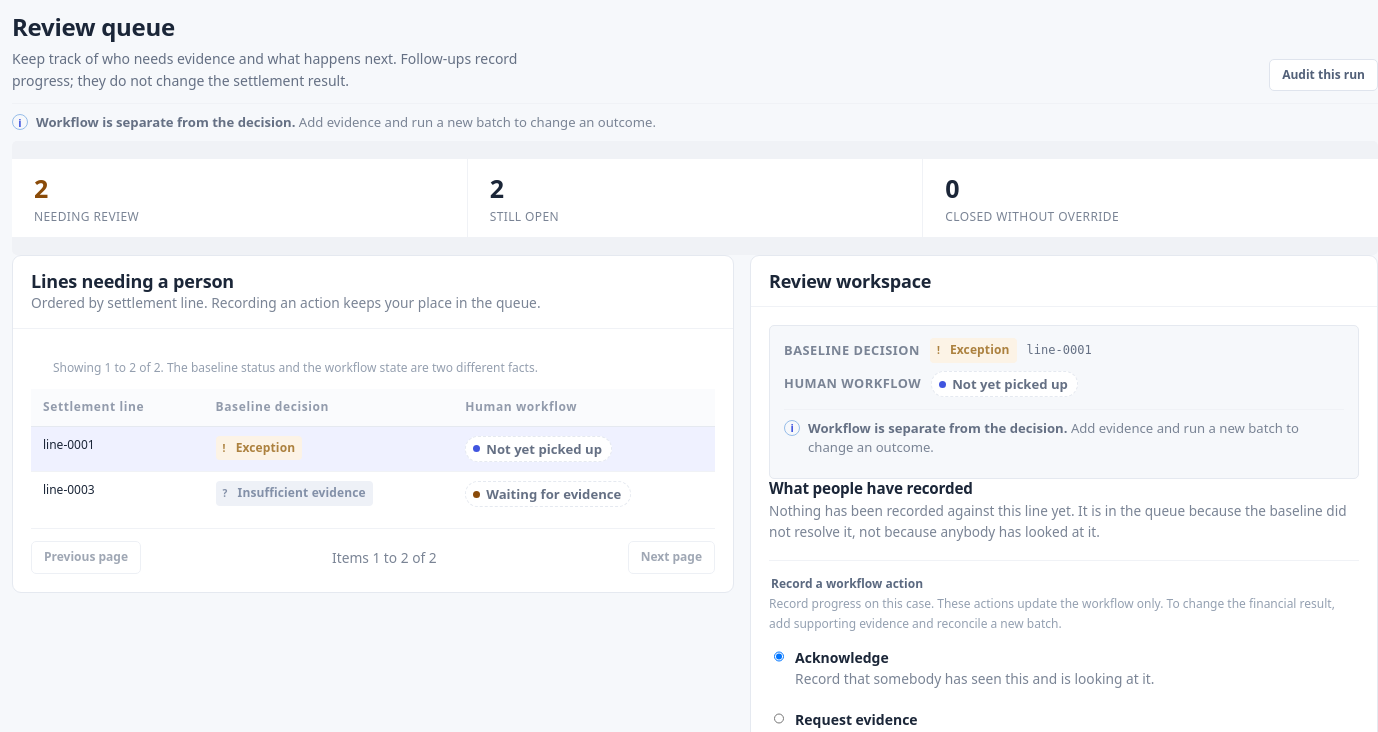
Test: the workspace › shows a recorded note as text
Step 1. Click the button "line-0003" → coordinates (117, 490), box top-left (43, 481), bottom-right (192, 500)
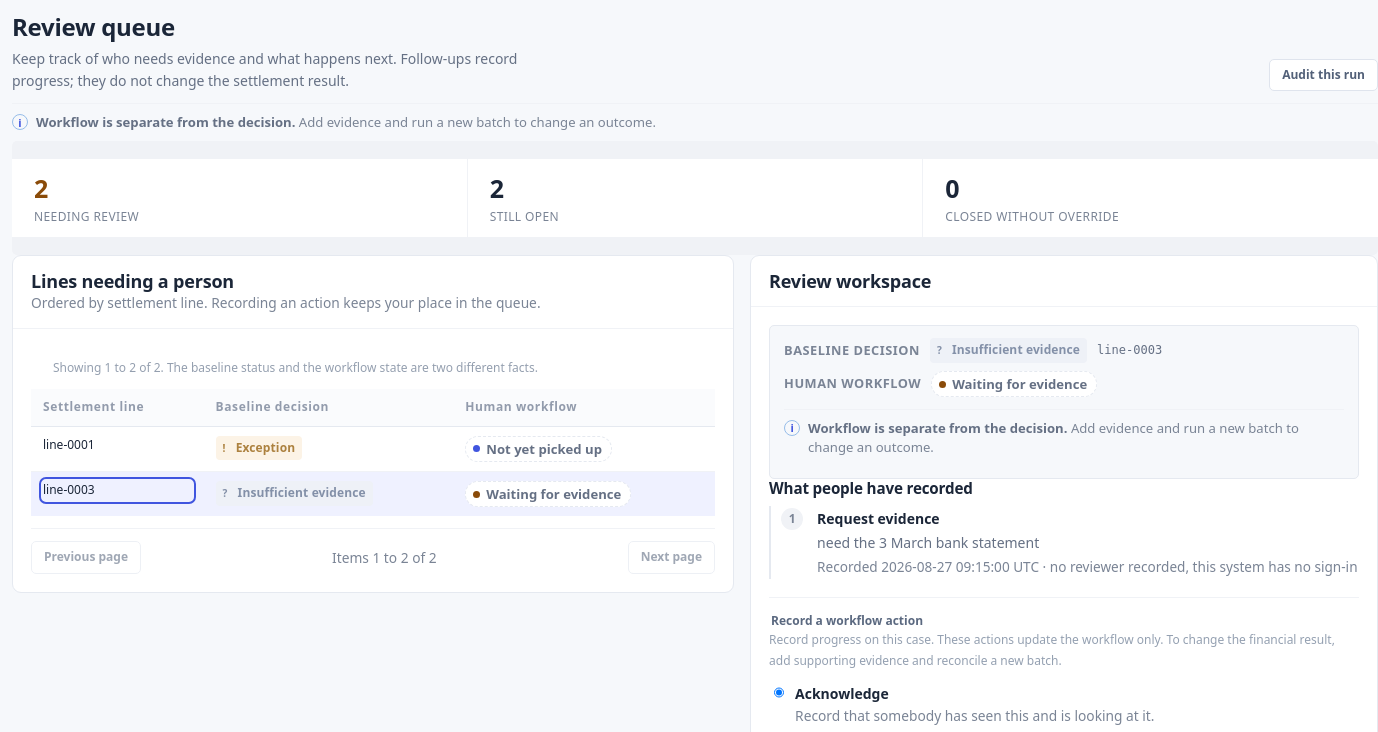
Now the text "need the 3 March bank statement" is shown, box top-left (817, 533), bottom-right (1039, 552)
